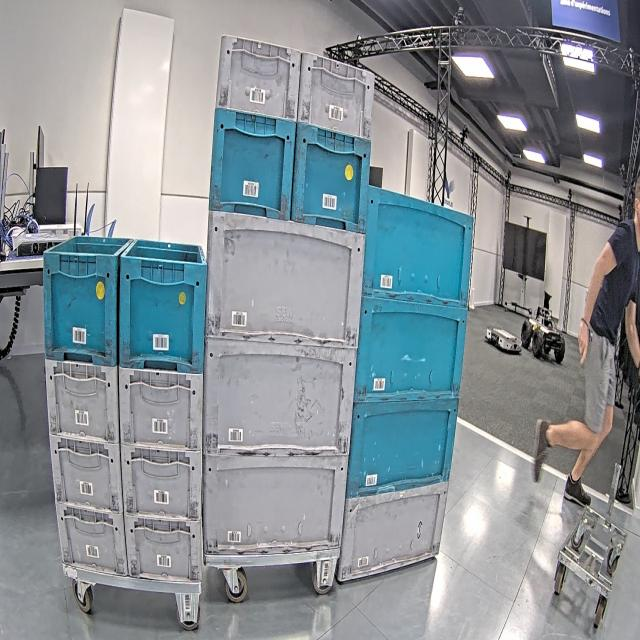Box3G: (209, 208, 363, 356), (204, 338, 356, 461), (205, 451, 344, 554)
Box8G: (340, 477, 454, 579), (118, 357, 203, 452), (216, 34, 300, 122), (298, 53, 378, 140), (123, 508, 203, 588), (122, 442, 202, 520), (51, 436, 122, 518), (46, 367, 120, 445), (52, 499, 126, 574)
BoxB4: (359, 182, 476, 306), (350, 294, 470, 402), (345, 399, 467, 494)
BoxB8: (116, 238, 209, 372), (42, 236, 125, 360), (206, 108, 296, 219), (291, 131, 374, 225)
